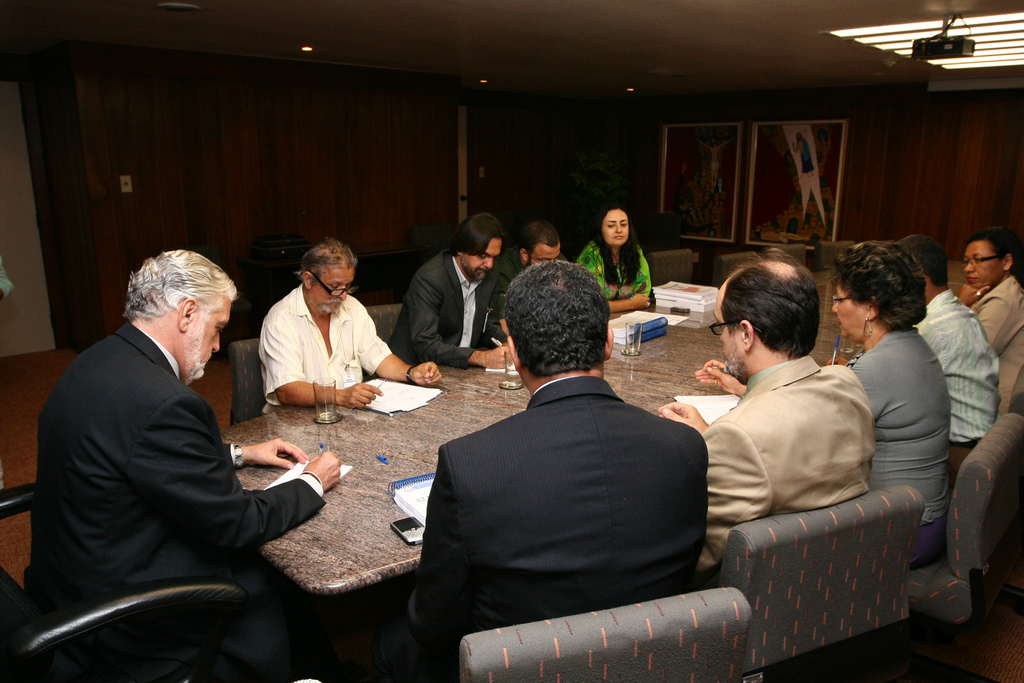Human_hand: (252, 436, 310, 473), (654, 399, 710, 436), (692, 357, 745, 394), (301, 447, 343, 493), (344, 380, 381, 411), (406, 360, 444, 390), (957, 284, 994, 308), (484, 344, 515, 372), (630, 292, 649, 309), (824, 357, 850, 365)
